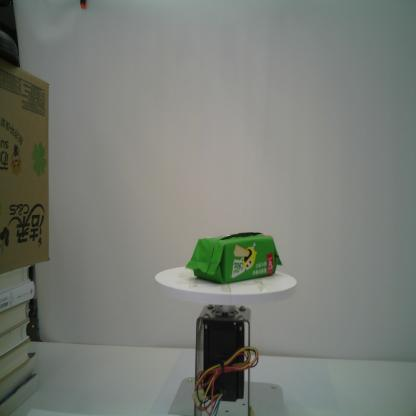Dessert: (184, 232, 284, 286)
